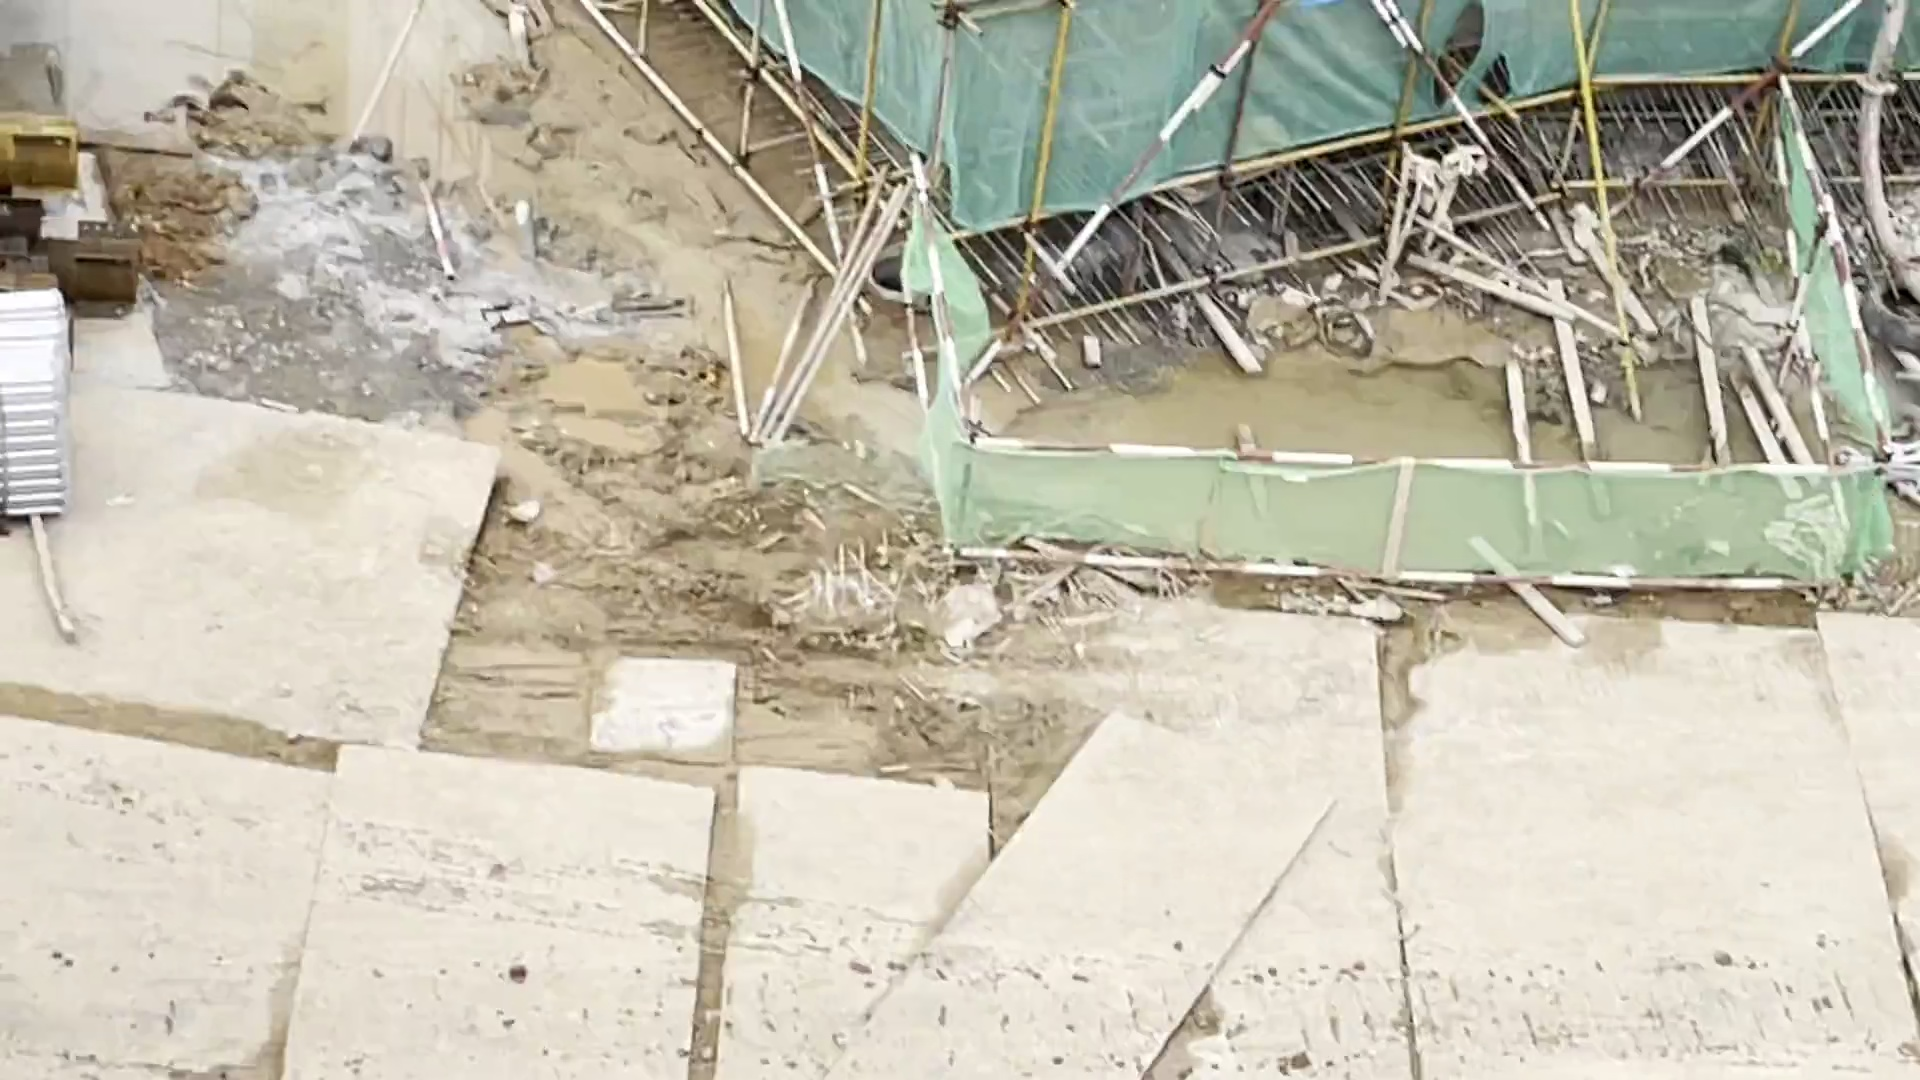scaffold: (1, 276, 88, 524)
